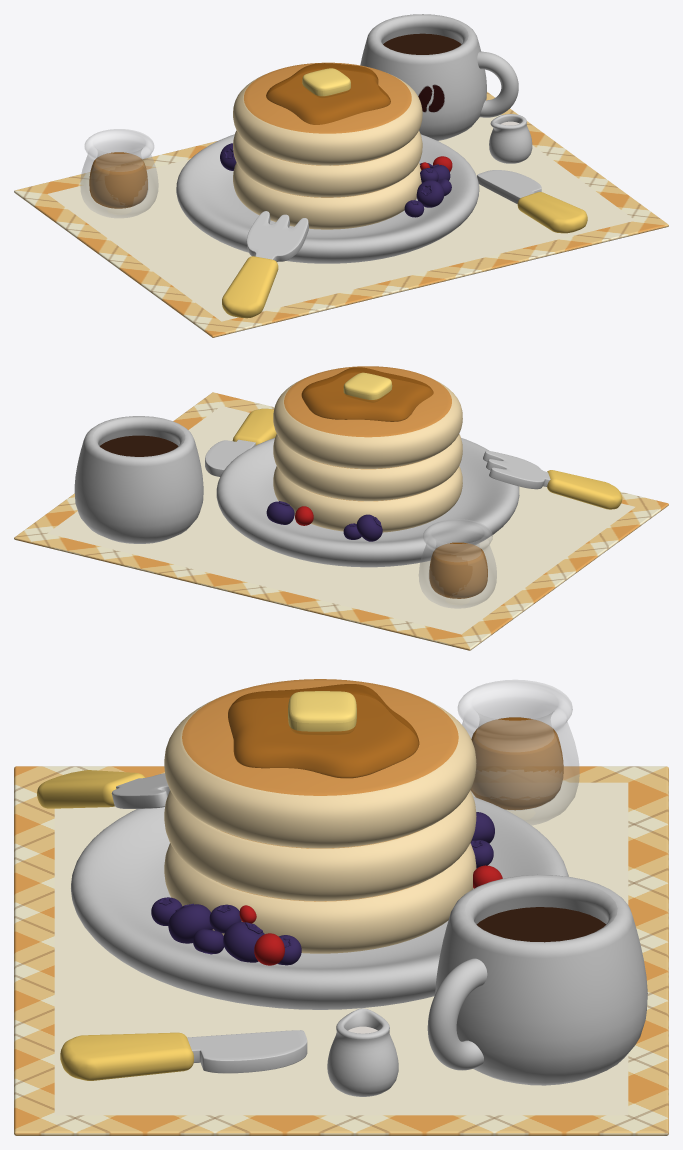
The model's file is pancake.glb.
3 renders of one model, top to bottom at view 1: azimuth 30°, elevation 25°; view 2: azimuth 150°, elevation 25°; view 3: azimuth 270°, elevation 25°, orthographic. The views are drawn at different scales.
Visible parts, largest first — view 1: Plane, Cylinder.002, Circle.005, Circle.003, Cylinder.001, Circle.006, Cylinder.004, Cylinder.003, Circle.009, Cube.002, Plane.001, Cube.003 (+6 smaller); view 2: Plane, Circle.005, Cylinder.002, Circle.003, Cylinder.001, Circle.006, Cylinder.004, Cylinder.003, Circle.009, Cube.002, Plane.001, Circle.004 (+5 smaller); view 3: Plane, Cylinder.002, Circle.003, Circle.005, Cylinder.001, Cylinder.004, Circle.006, Cylinder.003, Circle.009, Cube.003, Circle.007, Plane.002 (+10 smaller).
Part boxes in pixels (x1,y1,x2,y2): Plane: [14, 92, 668, 337]; Cylinder.002: [233, 62, 422, 165]; Circle.005: [176, 134, 479, 263]; Circle.003: [360, 14, 486, 140]; Cylinder.001: [233, 130, 422, 197]; Circle.006: [80, 129, 158, 217]; Cylinder.004: [233, 162, 421, 229]; Cylinder.003: [266, 63, 390, 124]; Circle.009: [89, 152, 147, 208]; Cube.002: [222, 256, 278, 318]; Plane.001: [246, 211, 308, 261]; Cube.003: [517, 192, 587, 233]; Plane: [14, 392, 668, 650]; Circle.005: [216, 438, 519, 567]; Cylinder.002: [273, 366, 462, 468]; Circle.003: [74, 416, 203, 543]; Cylinder.001: [273, 434, 462, 501]; Circle.006: [419, 519, 496, 608]; Cylinder.004: [273, 466, 462, 532]; Cylinder.003: [301, 367, 433, 421]; Circle.009: [429, 542, 487, 598]; Cube.002: [547, 470, 622, 509]; Plane.001: [483, 450, 550, 489]; Circle.004: [99, 435, 178, 456]; Plane: [14, 766, 668, 1135]; Cylinder.002: [164, 679, 476, 848]; Circle.003: [435, 874, 647, 1085]; Circle.005: [71, 796, 568, 1009]; Cylinder.001: [164, 790, 476, 901]; Cylinder.004: [164, 843, 476, 953]; Circle.006: [458, 680, 579, 825]; Cylinder.003: [228, 684, 419, 778]; Circle.009: [471, 717, 563, 810]; Cube.003: [60, 1032, 193, 1080]; Circle.007: [327, 1008, 398, 1096]; Plane.002: [187, 1030, 307, 1073].
Bounding box in the file's own units: 10.64 × 3.18 × 8.03.
Materials: 15 (2 with a texture image).
